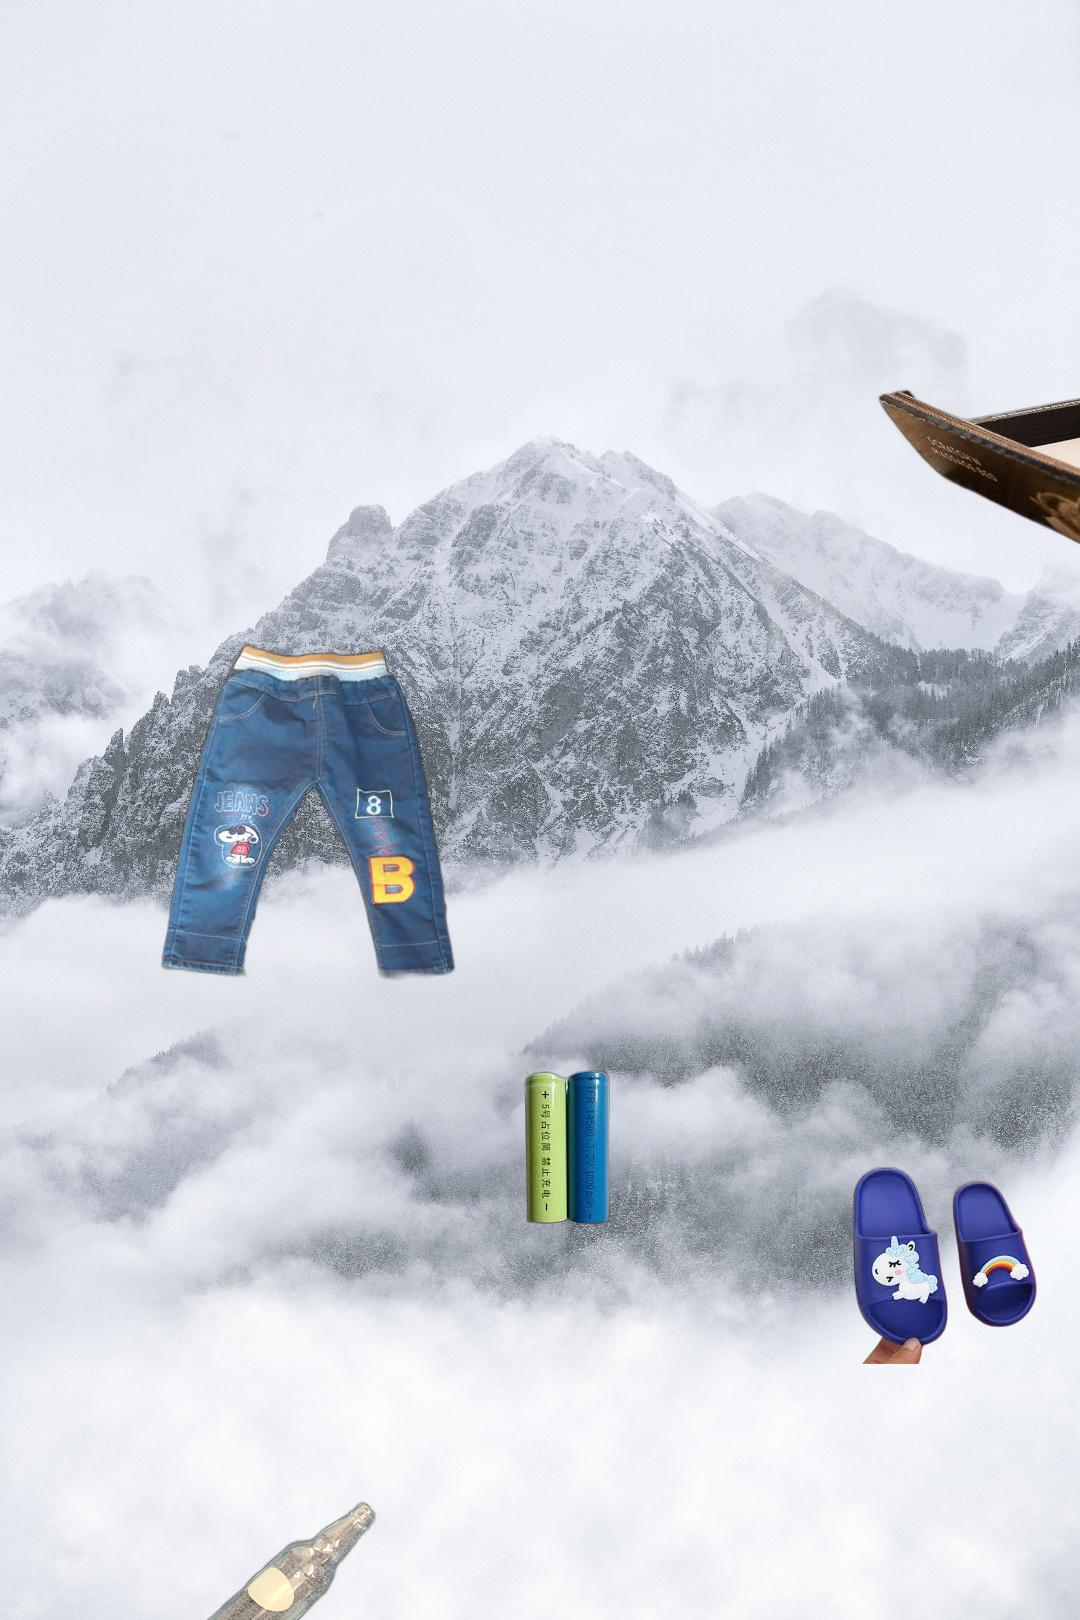battery: (522, 1070, 612, 1227)
clothes: (158, 638, 458, 983)
glass: (193, 1498, 379, 1620)
shoes: (850, 1164, 1039, 1364)
trashbox-cardboard: (873, 343, 1080, 594)
